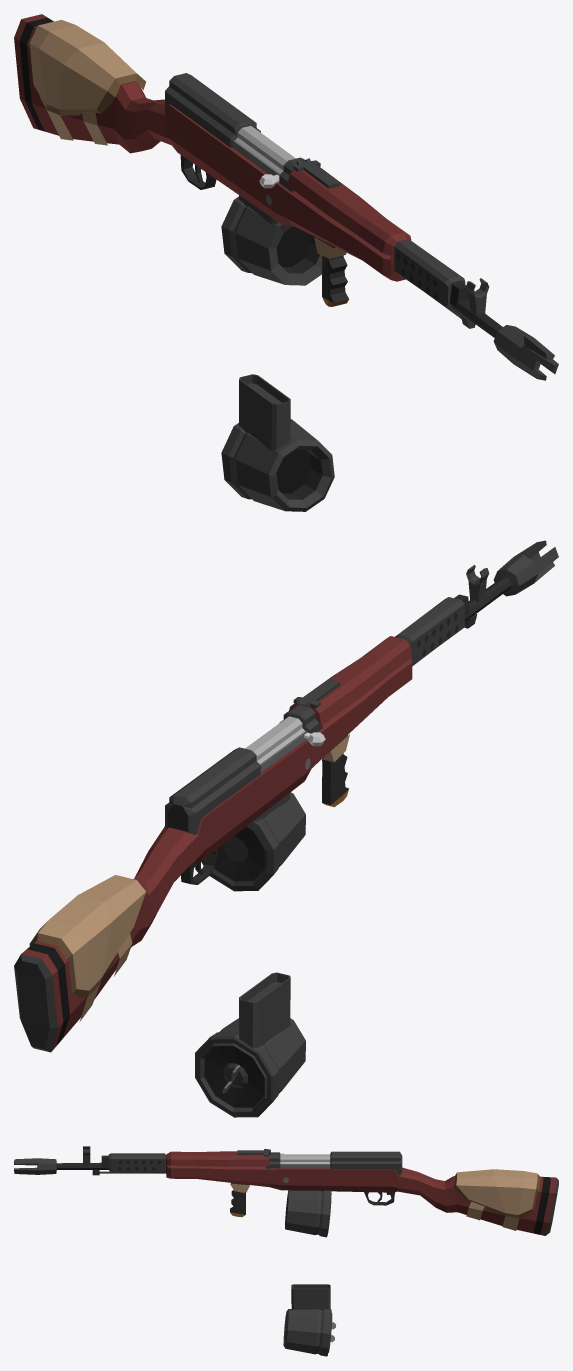
The model's file is SvtLmg_Gun.glb.
3 views of the same model, one above another, from view 1: azimuth 30°, elevation 25°; view 2: azimuth 150°, elevation 25°; view 3: azimuth 270°, elevation 25° (orthographic). The views are drawn at different scales.
Parts seen in each view (by area): view 1: SvtBodyLowPoly, SVTMag; view 2: SvtBodyLowPoly, SVTMag; view 3: SvtBodyLowPoly, SVTMag.
Boxes of the visible parts, x1,y1,x2,y2 form: SvtBodyLowPoly: (14,14,558,380); SVTMag: (221,374,334,511); SvtBodyLowPoly: (14,540,558,1052); SVTMag: (195,972,305,1117); SvtBodyLowPoly: (14,1146,558,1237); SVTMag: (283,1284,335,1356).
Bounding box in the file's own units: 0.0986 × 0.43 × 1.04.
1 material, 1 textured.
